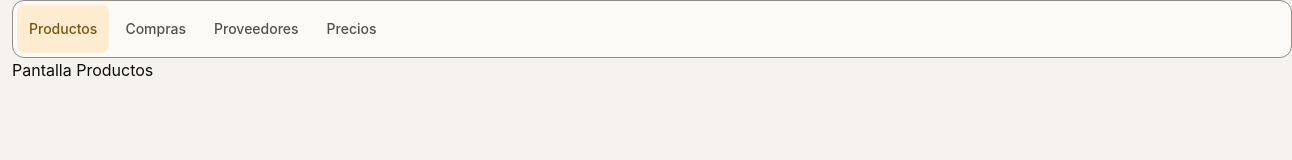
it: SelectorSeccion › tocar un ítem navega a su ruta real (rutas hermanas, no estado interno)
Expected: the text "Pantalla Productos" is shown, [12,60,153,80]
Click the link "Compras" at (156, 28), box [125,20,186,37]
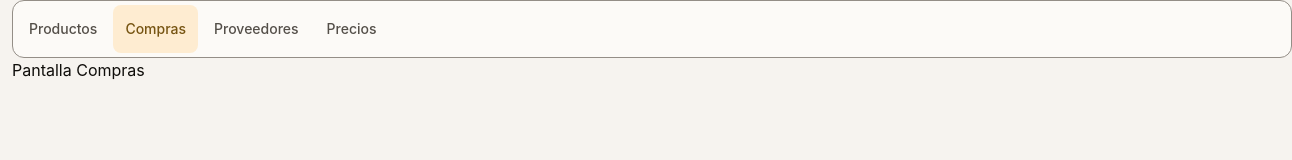
Now the text "Pantalla Compras" is shown, box [12,60,145,80]
Now the text "Pantalla Productos" is gone
